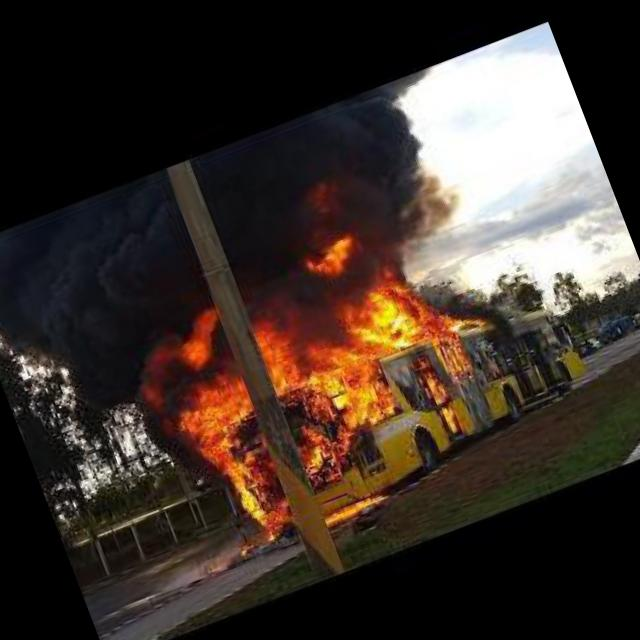fire: (115, 187, 535, 569)
smoke: (0, 58, 496, 446)
